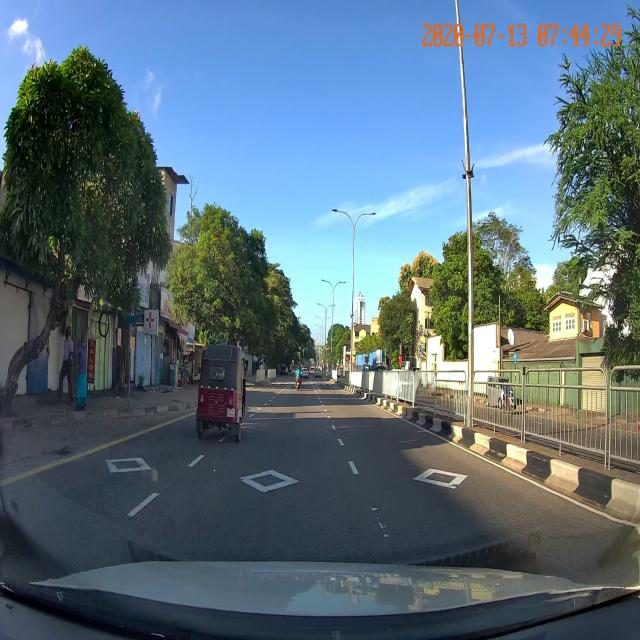diamond: (158, 447, 367, 499)
